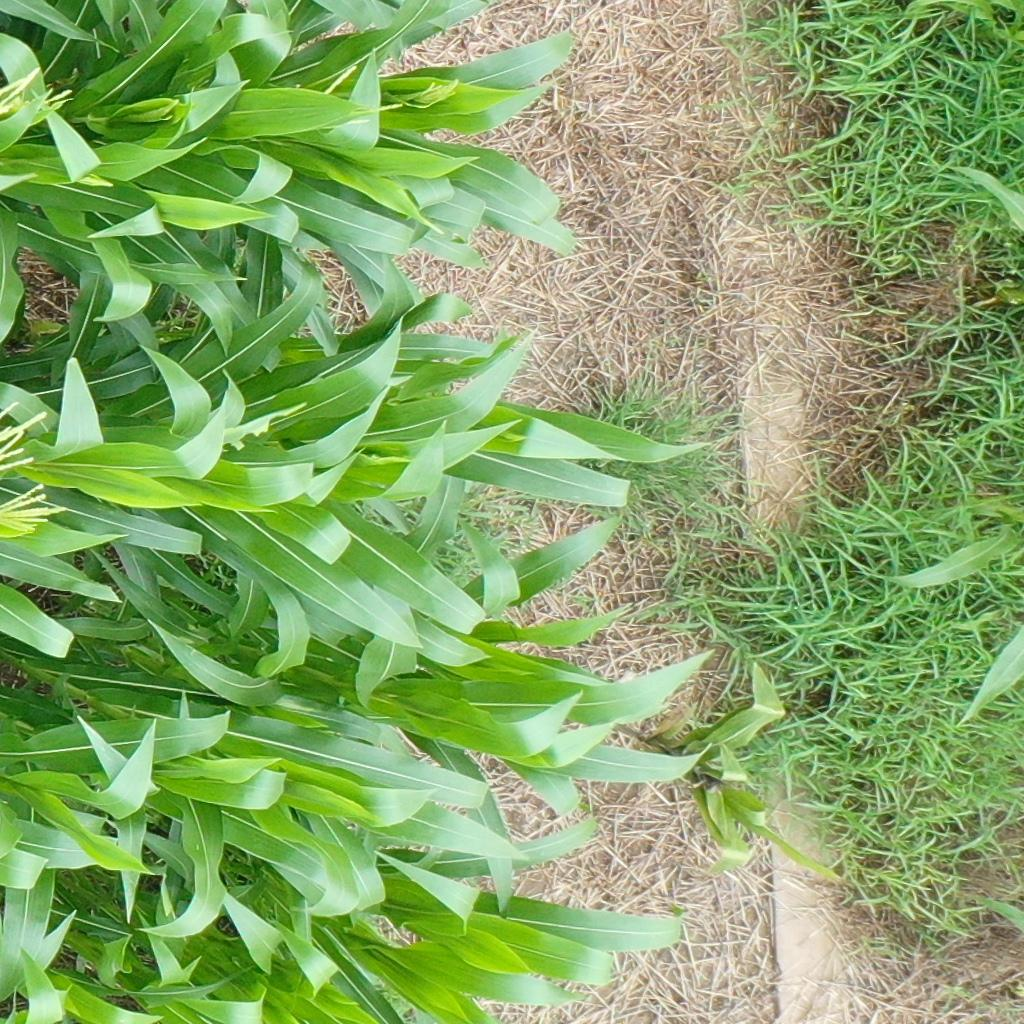Tassel: (306, 63, 402, 124), (1, 63, 72, 122), (1, 483, 68, 540), (1, 399, 49, 471), (407, 77, 462, 110), (73, 173, 116, 188)
